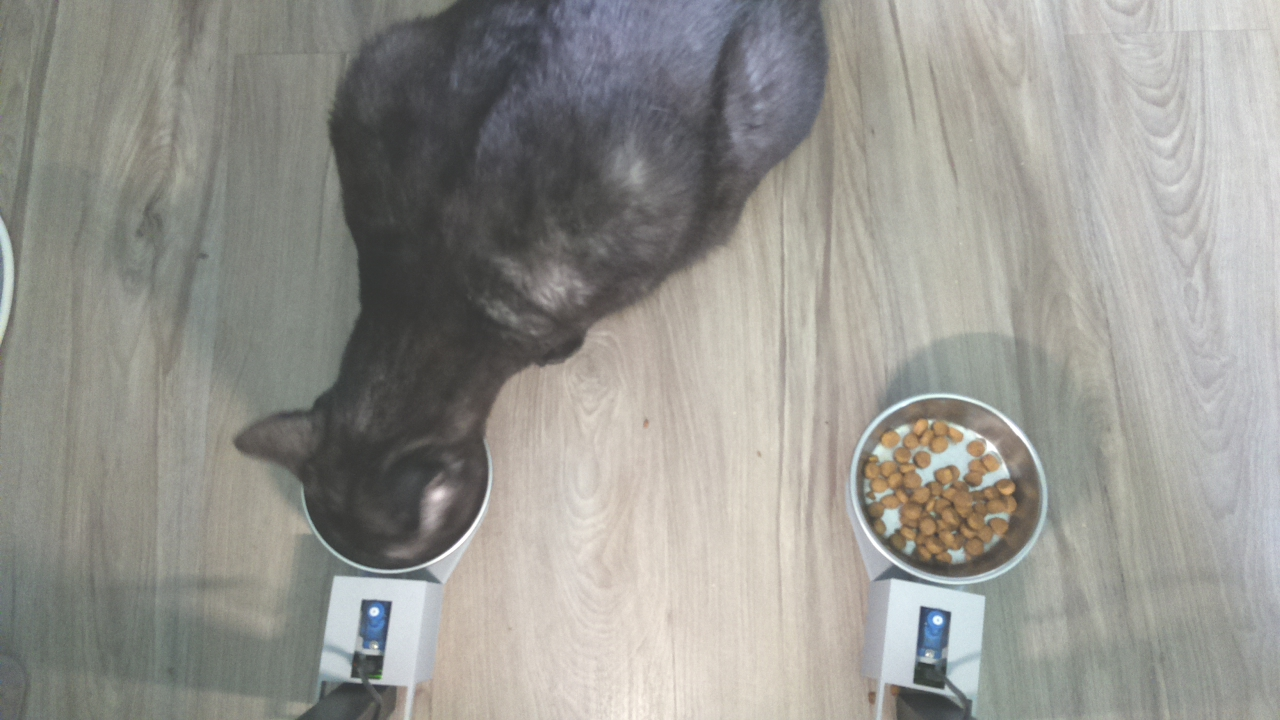open_bowl: (851, 392, 1047, 589)
saki_eating: (226, 305, 498, 584)
